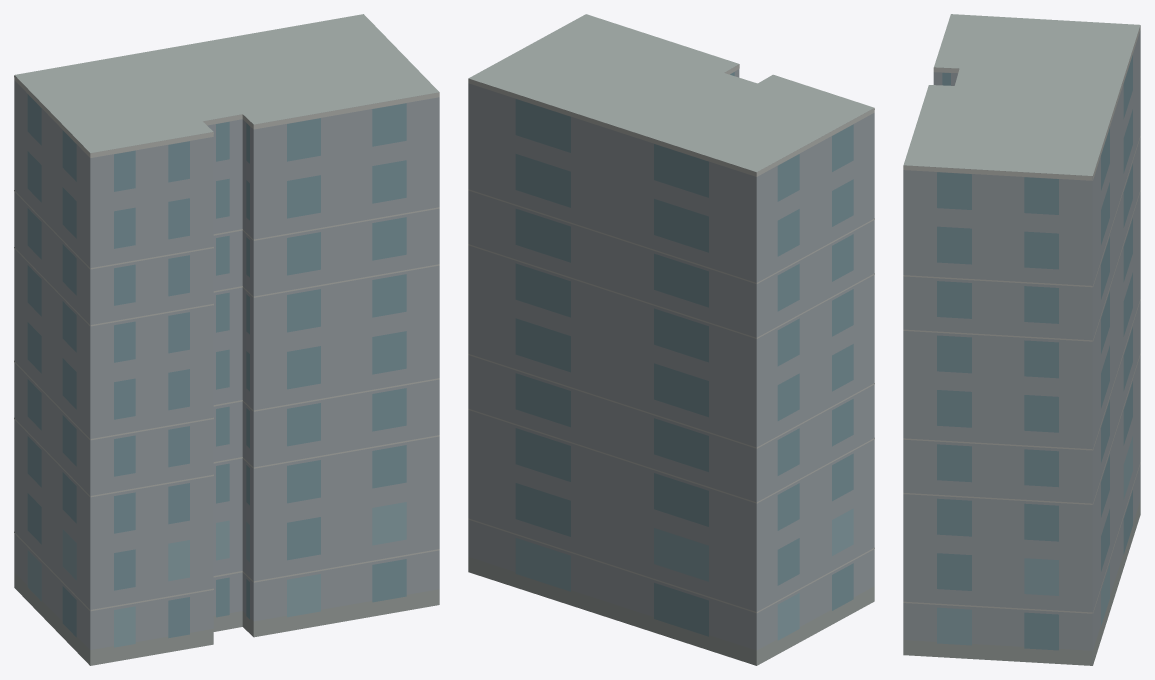
File: survey-upis-33014220.glb
3 renders of one model, left to right at view 1: azimuth 30°, elevation 25°; view 2: azimuth 150°, elevation 25°; view 3: azimuth 270°, elevation 25°, orthographic. The views are drawn at different scales.
Visible parts, largest first — view 1: survey-upis-33014220.tmp; view 2: survey-upis-33014220.tmp; view 3: survey-upis-33014220.tmp.
Part boxes in pixels (x1,y1,x2,y2): survey-upis-33014220.tmp: (14, 14, 439, 665); survey-upis-33014220.tmp: (468, 14, 874, 665); survey-upis-33014220.tmp: (903, 14, 1140, 665).
Size of the model in its own units: 17.77 by 25 by 10.99.
